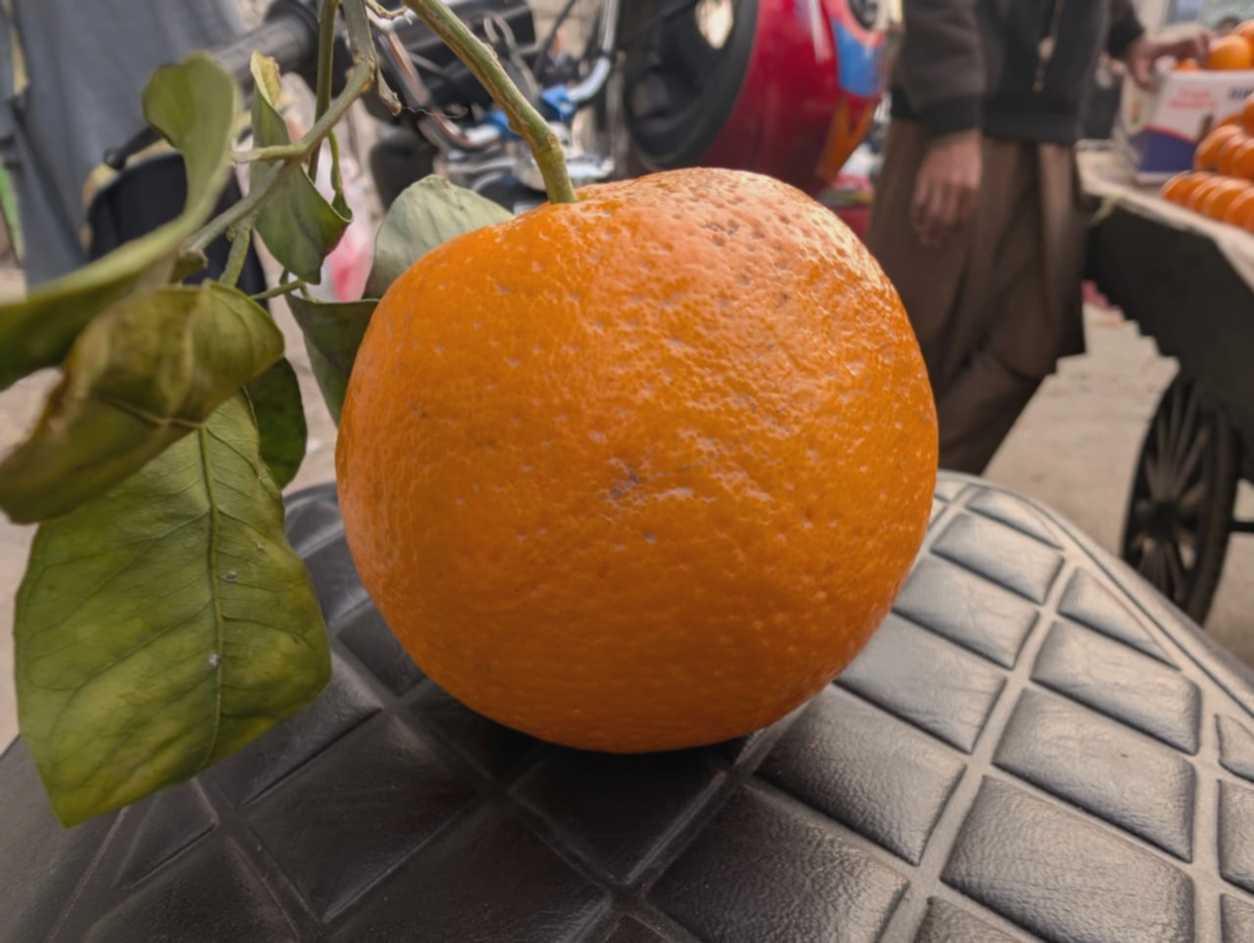orange: (70, 0, 945, 812)
